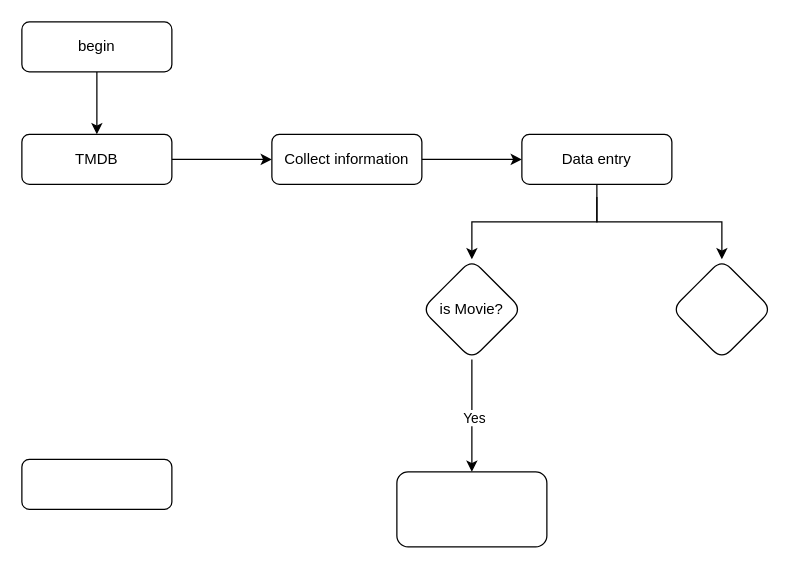
This 794x569 diagram has some shape labels left out. The shapes that lost their labels are listed below. From the top down, each one's centre as x and y in pixels, then its label:
At point (721, 308): "is Season?".
At point (96, 483): "end".
At point (471, 509): "1.save basic info".
